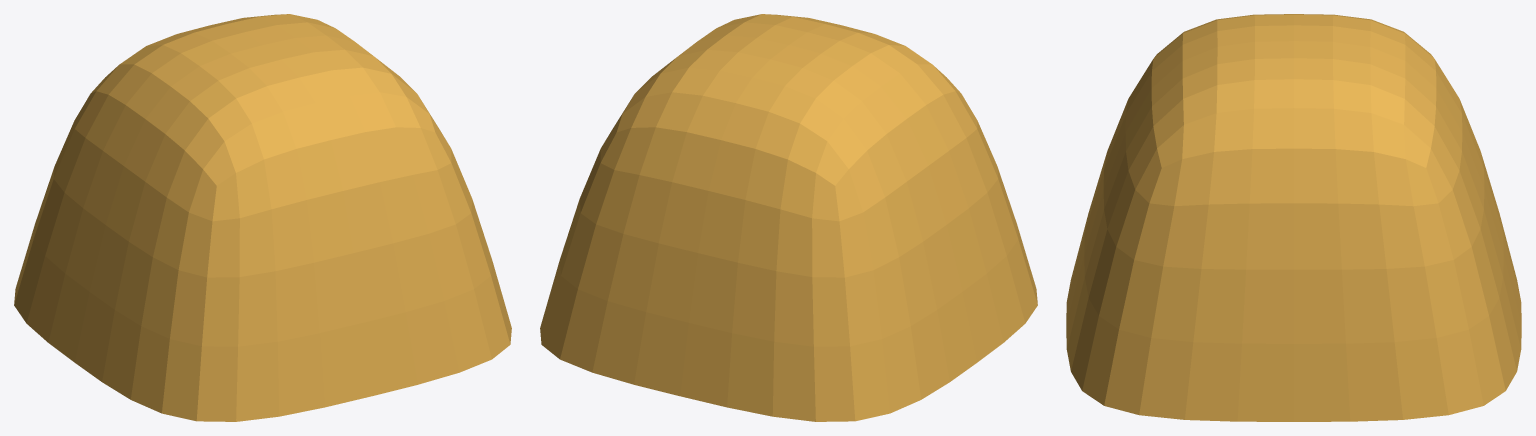
Rendered from Haystack.fbx.
3 renders of one model, left to right at view 1: azimuth 30°, elevation 25°; view 2: azimuth 150°, elevation 25°; view 3: azimuth 270°, elevation 25°, orthographic. The views are drawn at different scales.
Visible parts, largest first — view 1: Cube; view 2: Cube; view 3: Cube.
Part boxes in pixels (x1,y1,x2,y2): Cube: (14,14,511,421); Cube: (540,14,1037,421); Cube: (1066,14,1521,421).
Size of the model in its own units: 369 by 254 by 369.
